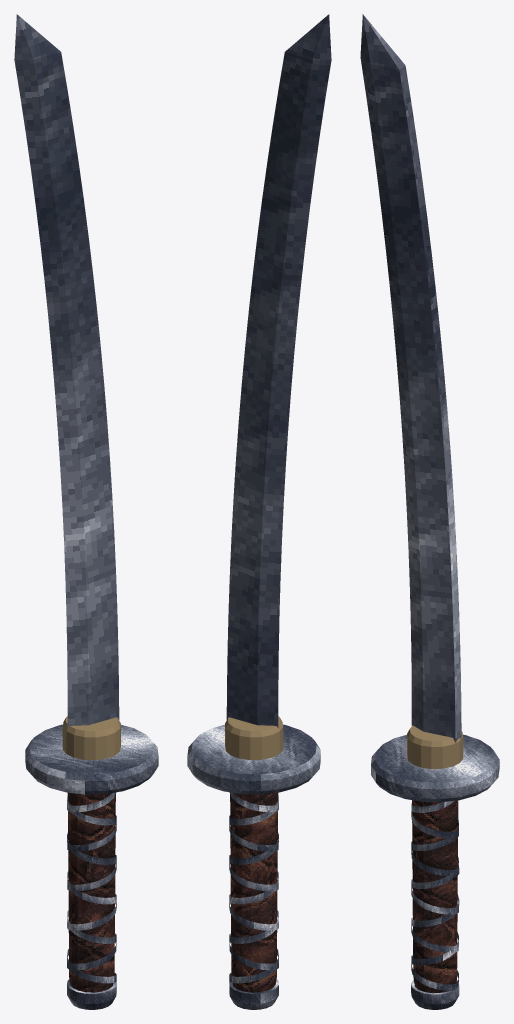
File: katana.glb
The picture shows the model from 3 angles, left to right: view 1: azimuth 30°, elevation 25°; view 2: azimuth 150°, elevation 25°; view 3: azimuth 330°, elevation 25°; orthographic projection. The views are drawn at different scales.
Parts seen in each view (by area): view 1: Lâmina curva de katana, Cabo longo, Guarda circular, Colar de latão, Trançado do cabo, Trançado do cabo.001, Ponteira do cabo; view 2: Lâmina curva de katana, Cabo longo, Guarda circular, Colar de latão, Trançado do cabo.001, Trançado do cabo, Ponteira do cabo; view 3: Lâmina curva de katana, Cabo longo, Guarda circular, Colar de latão, Trançado do cabo.001, Trançado do cabo, Ponteira do cabo.
Part boxes in pixels (box(x1,y1,x2,y2)): Lâmina curva de katana: box(14, 14, 119, 727); Cabo longo: box(67, 792, 115, 992); Guarda circular: box(25, 724, 158, 794); Colar de latão: box(62, 716, 120, 760); Trançado do cabo: box(67, 794, 116, 983); Trançado do cabo.001: box(67, 792, 116, 970); Ponteira do cabo: box(67, 979, 116, 1009); Lâmina curva de katana: box(226, 14, 331, 727); Cabo longo: box(230, 792, 278, 992); Guarda circular: box(187, 724, 320, 794); Colar de latão: box(225, 716, 283, 760); Trançado do cabo.001: box(229, 794, 278, 983); Trançado do cabo: box(229, 792, 278, 970); Ponteira do cabo: box(229, 979, 278, 1009); Lâmina curva de katana: box(360, 14, 461, 742); Cabo longo: box(412, 800, 458, 993); Guarda circular: box(371, 734, 499, 802); Colar de latão: box(407, 725, 463, 768); Trançado do cabo.001: box(411, 800, 459, 988); Trançado do cabo: box(411, 811, 459, 990); Ponteira do cabo: box(411, 980, 459, 1009).
Bounding box in the file's own units: 0.56 × 3.97 × 0.48.
4 materials, 3 textured.
